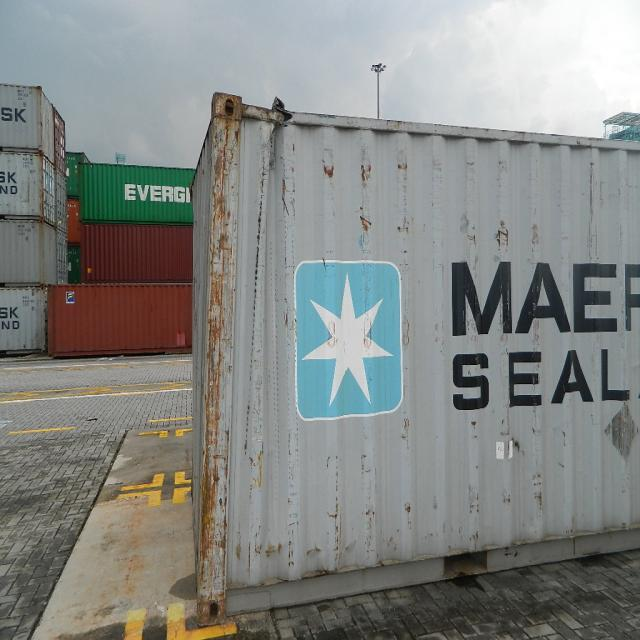dent: (247, 122, 295, 440)
